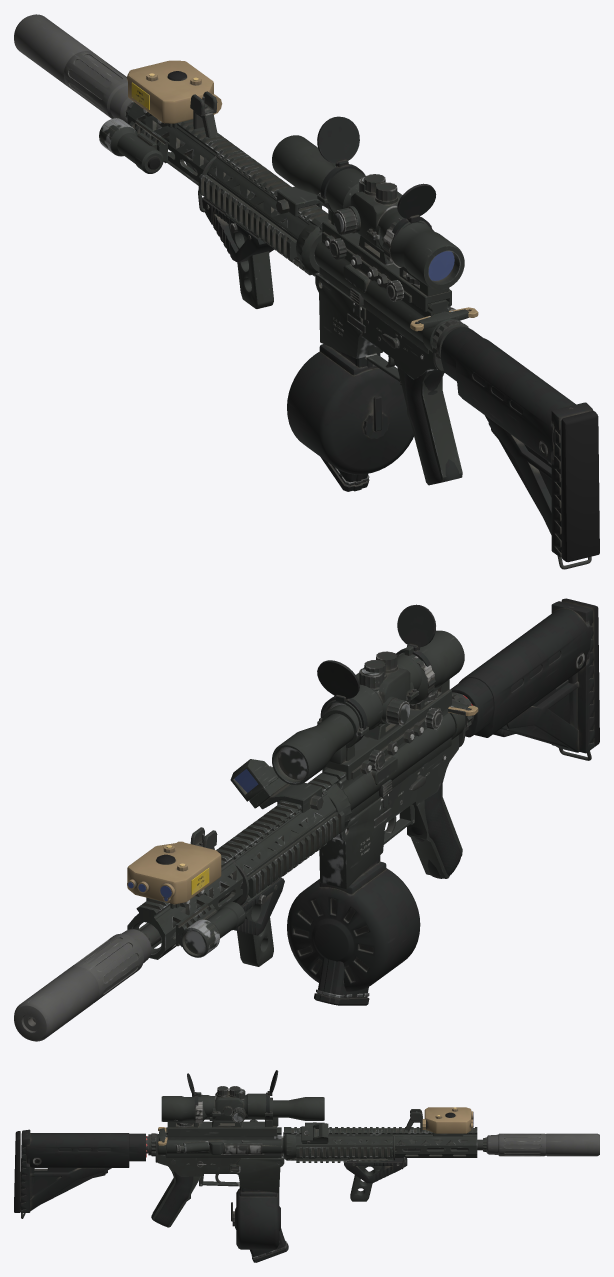
The picture shows the model from 3 angles, top to bottom: view 1: azimuth 30°, elevation 25°; view 2: azimuth 150°, elevation 25°; view 3: azimuth 270°, elevation 25°; orthographic projection. The views are drawn at different scales.
Visible parts, largest first — view 1: coronha_moderna, carregador_tambor, luneta, guarda_mao_longo, supressor, receptor_inferior, modulo_laser, receptor_superior, mira_prismatica, guarda_mao_superior, punho_vazado, punho (+13 smaller); view 2: coronha_moderna, carregador_tambor, guarda_mao_longo, luneta, supressor, receptor_inferior, modulo_laser, receptor_superior, guarda_mao_superior, mira_prismatica, alca_transporte, coronha_fixa (+12 smaller); view 3: coronha_moderna, guarda_mao_longo, receptor_inferior, carregador_tambor, supressor, luneta, receptor_superior, guarda_mao_superior, mira_prismatica, alca_transporte, modulo_laser, punho (+14 smaller).
Boxes of the visible parts, box(x1,y1,x2,y2) form: coronha_moderna: box(456, 337, 599, 562); carregador_tambor: box(287, 344, 413, 474); luneta: box(272, 135, 464, 289); guarda_mao_longo: box(127, 102, 328, 276); supressor: box(14, 14, 134, 122); receptor_inferior: box(315, 273, 453, 385); modulo_laser: box(127, 60, 222, 128); receptor_superior: box(314, 227, 450, 354); mira_prismatica: box(326, 168, 424, 250); guarda_mao_superior: box(198, 151, 309, 260); punho_vazado: box(397, 367, 462, 485); punho: box(404, 370, 460, 484); coronha_moderna: box(459, 598, 599, 753); carregador_tambor: box(287, 855, 420, 991); guarda_mao_longo: box(127, 773, 338, 959); luneta: box(272, 630, 464, 785); supressor: box(14, 929, 151, 1041); receptor_inferior: box(319, 712, 465, 888); modulo_laser: box(127, 841, 221, 908); receptor_superior: box(322, 707, 455, 818); guarda_mao_superior: box(233, 788, 344, 898); mira_prismatica: box(323, 651, 421, 729); alca_transporte: box(322, 679, 451, 780); coronha_fixa: box(450, 624, 593, 748); coronha_moderna: box(14, 1129, 129, 1212); guarda_mao_longo: box(284, 1127, 477, 1160); receptor_inferior: box(157, 1134, 284, 1192); carregador_tambor: box(231, 1187, 280, 1249); supressor: box(483, 1133, 599, 1156); luneta: box(161, 1088, 324, 1123); receptor_superior: box(166, 1127, 283, 1157); guarda_mao_superior: box(296, 1128, 392, 1157); mira_prismatica: box(194, 1086, 269, 1120); alca_transporte: box(167, 1117, 278, 1136); modulo_laser: box(422, 1107, 473, 1136); punho: box(151, 1171, 193, 1226).
Size of the model in its own units: 0.1202 by 0.3591 by 1.01.
7 materials, 7 textured.
